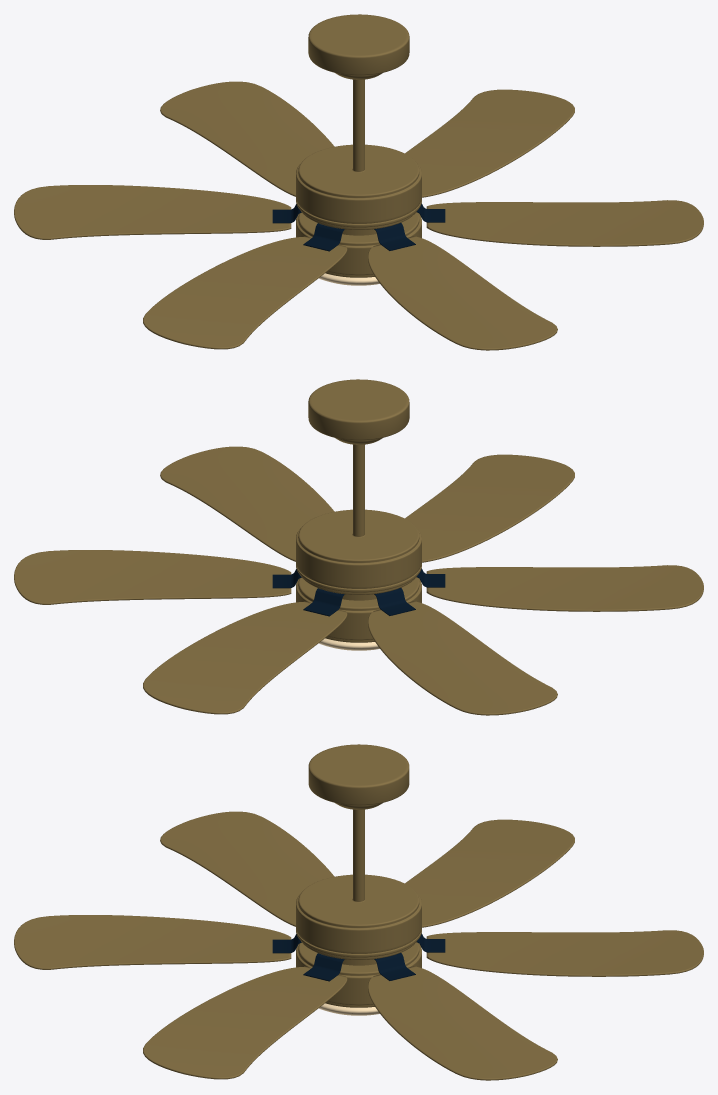
File: cooling fan.FBX
The picture shows the model from 3 angles, top to bottom: view 1: azimuth 30°, elevation 25°; view 2: azimuth 150°, elevation 25°; view 3: azimuth 270°, elevation 25°; orthographic projection.
Parts seen in each view (by area): view 1: arch20_104_34; view 2: arch20_104_34; view 3: arch20_104_34.
Boxes of the visible parts, x1,y1,x2,y2 form: arch20_104_34: [14, 14, 703, 350]; arch20_104_34: [14, 379, 703, 715]; arch20_104_34: [14, 744, 703, 1080].
Size of the model in its own units: 66.37 by 72.37 by 27.36.
